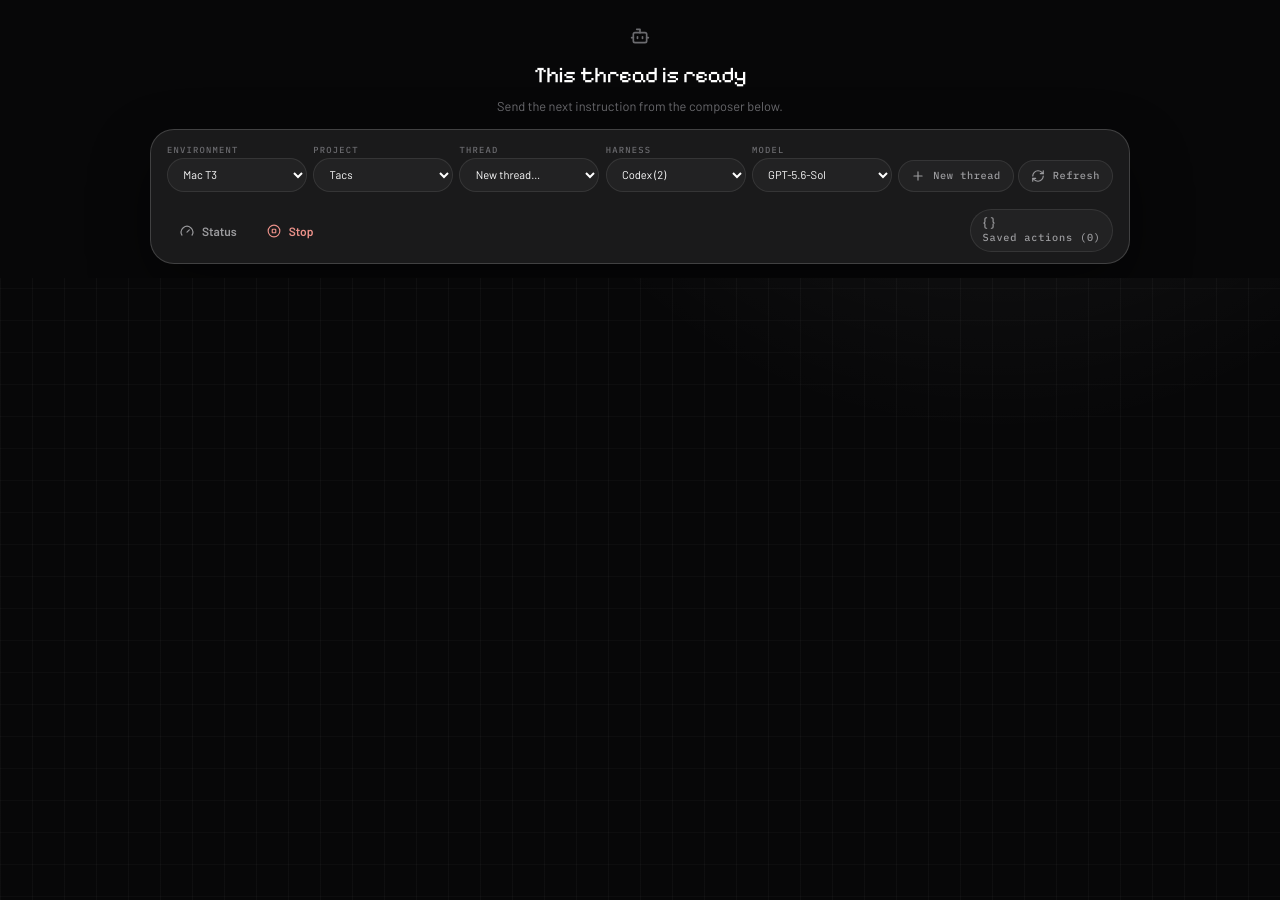
Scenario: changing harness starts a new thread with that harness's available model
Select "Claude (1)" in the dropdown named "Agent harness": (676, 175) [606, 158, 746, 192]
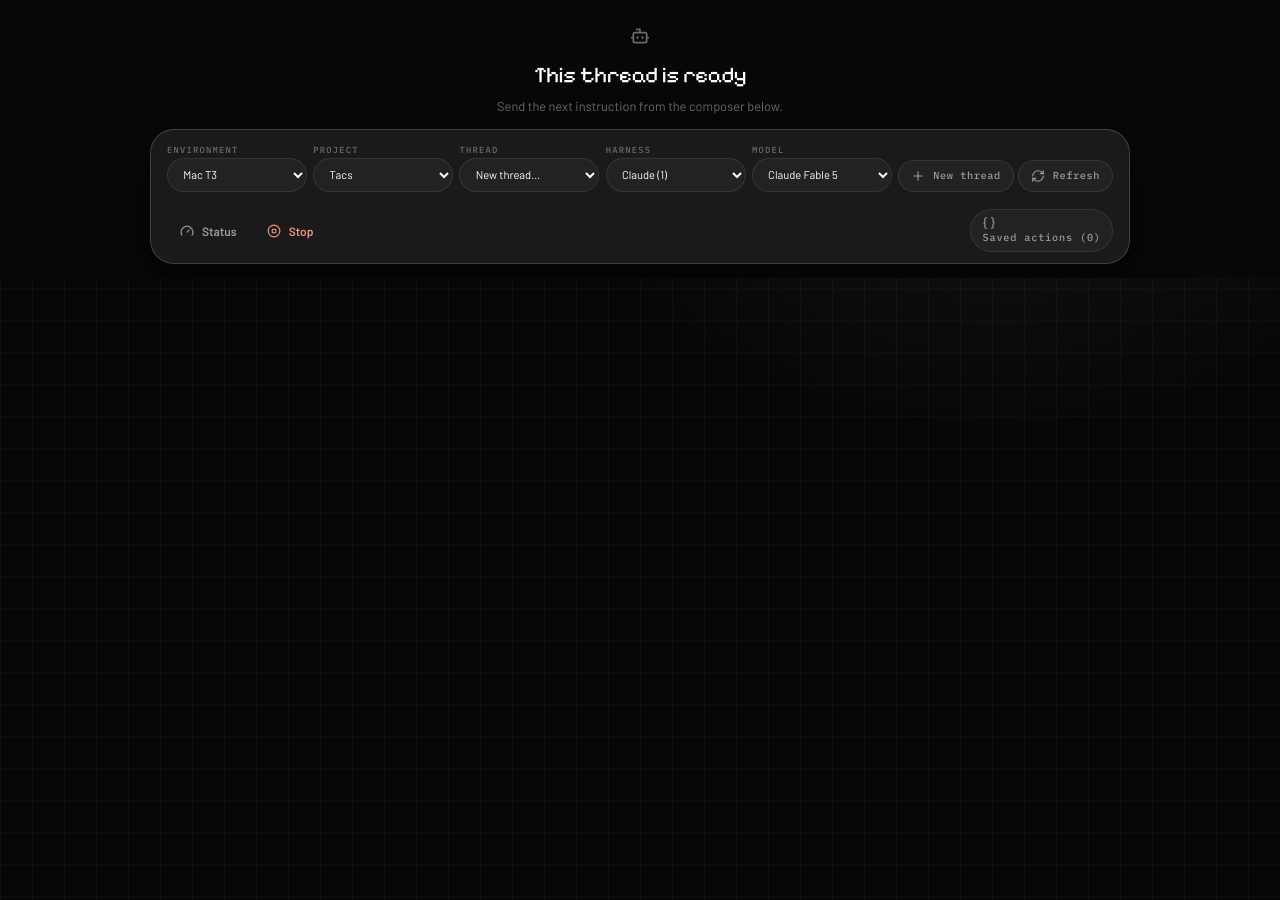
Expected: the dropdown labelled "Model" shows "Claude Fable 5", [752, 158, 892, 192]
